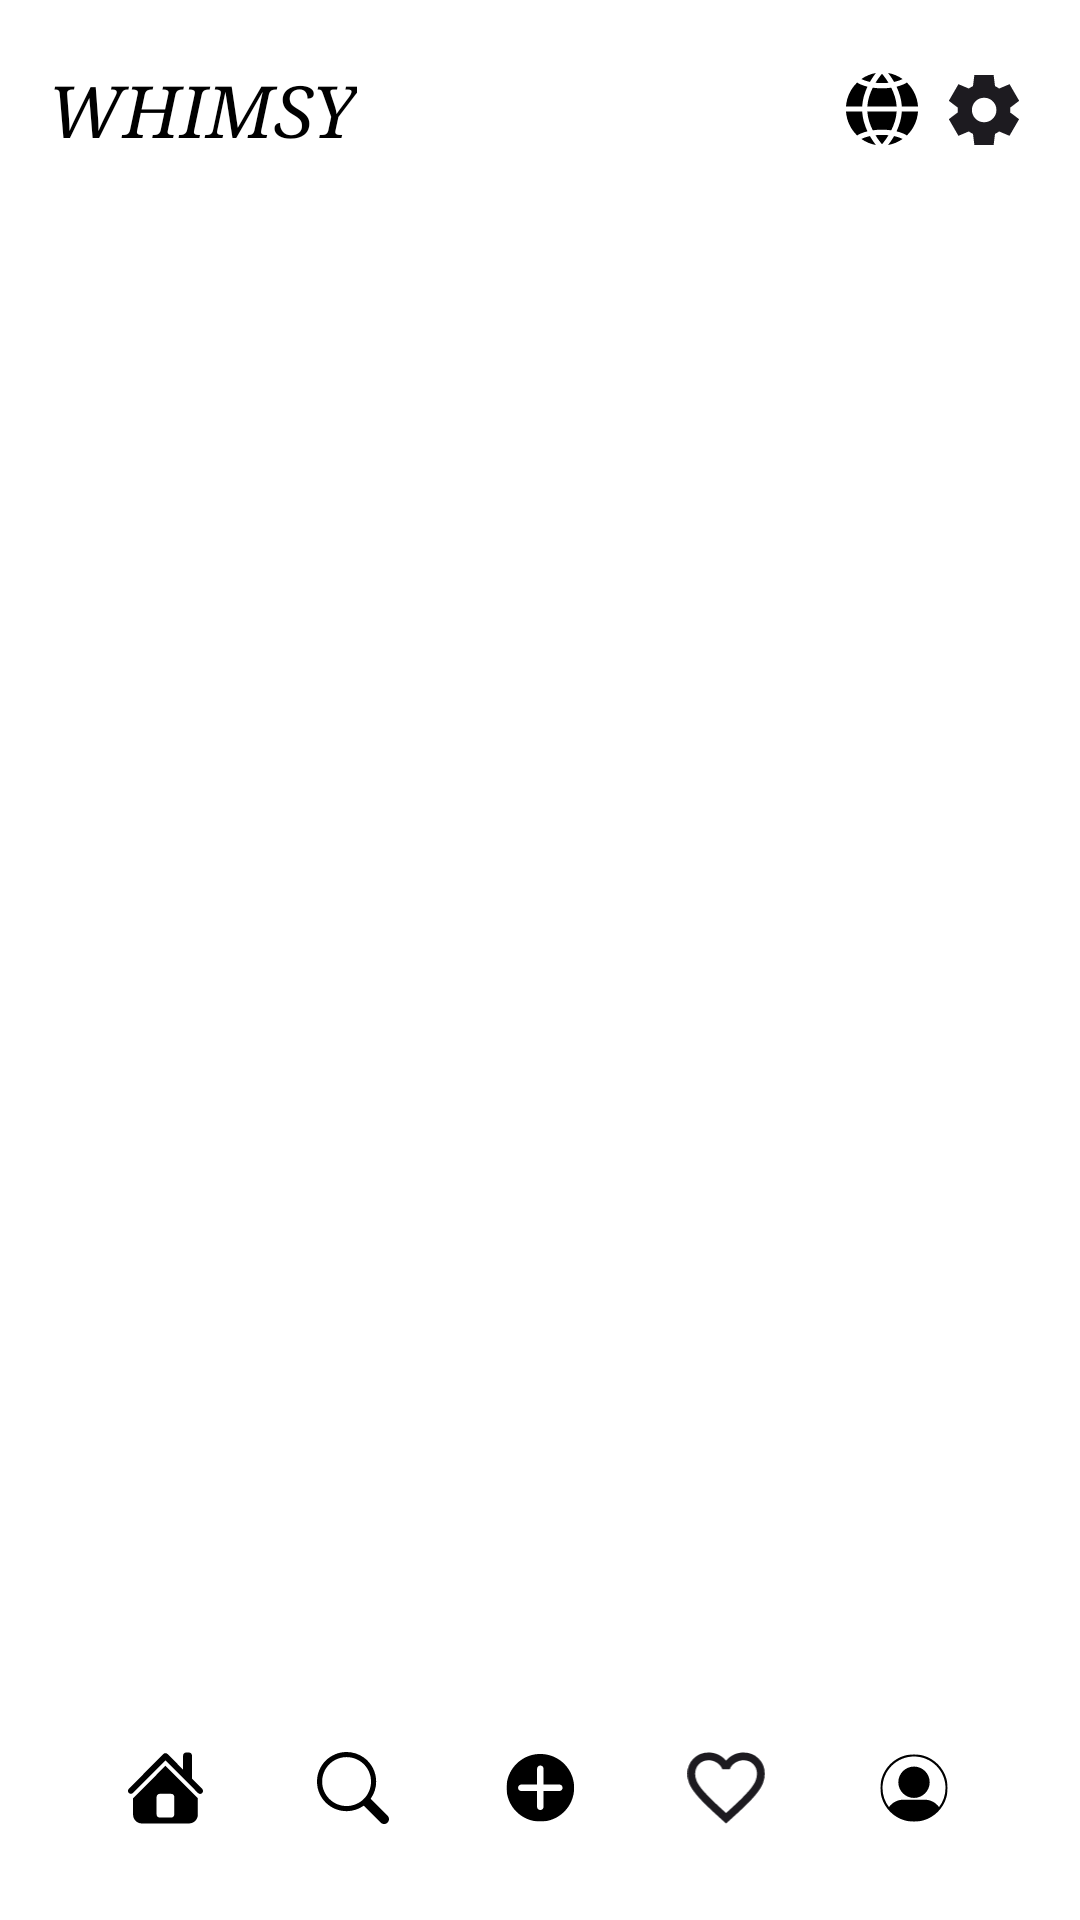

Icon click points for this 1080px x 1920px phone screenshot, format point (x, y):
add: point (540, 1788)
globe: point (882, 109)
heart: point (726, 1788)
home: point (165, 1788)
profile: point (914, 1788)
search: point (353, 1788)
settings: point (984, 110)
